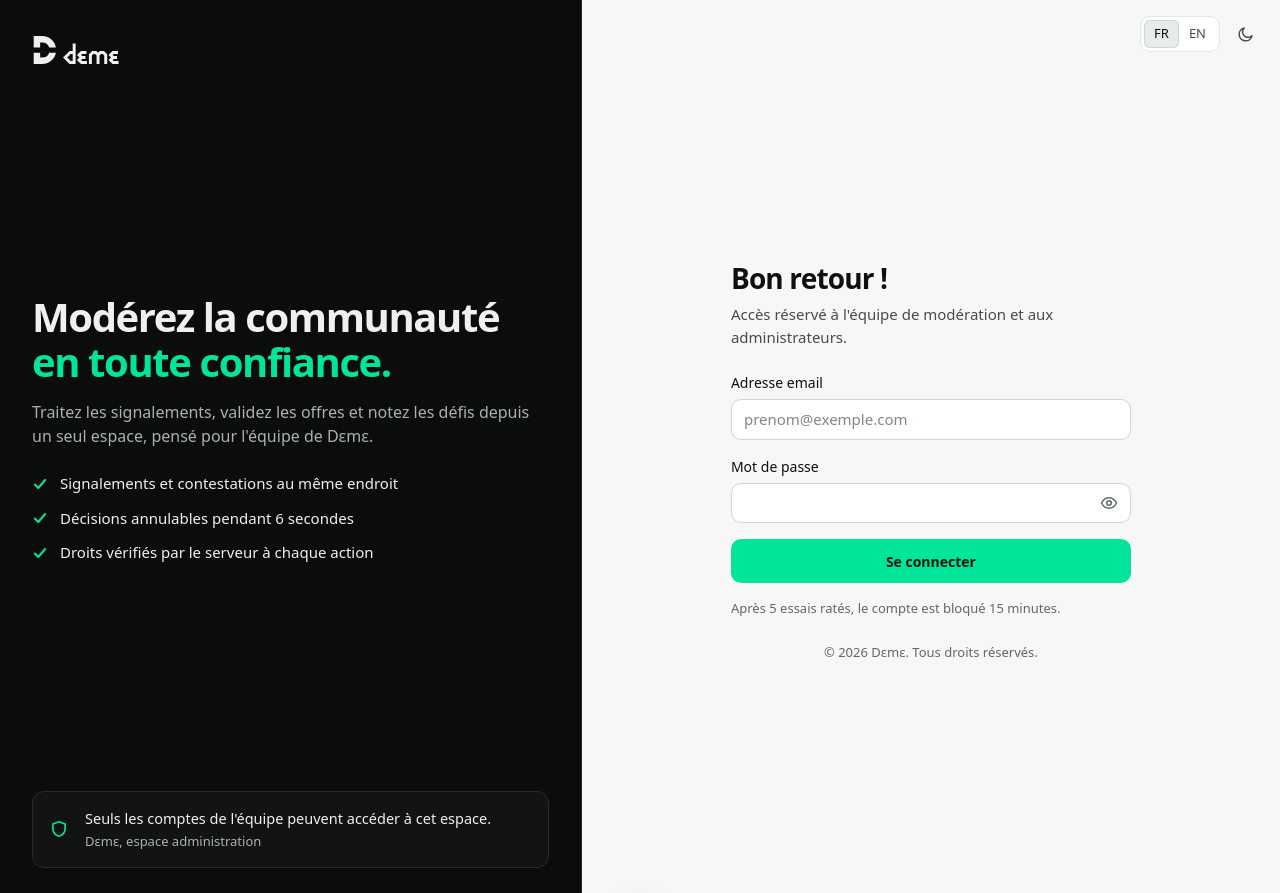
Test case: la connexion ouvre le tableau de bord d'un administrateur
Type "equipe@deme.dev" into the field labelled "Adresse email". click: (931, 420)
box: [731,399,1131,440]
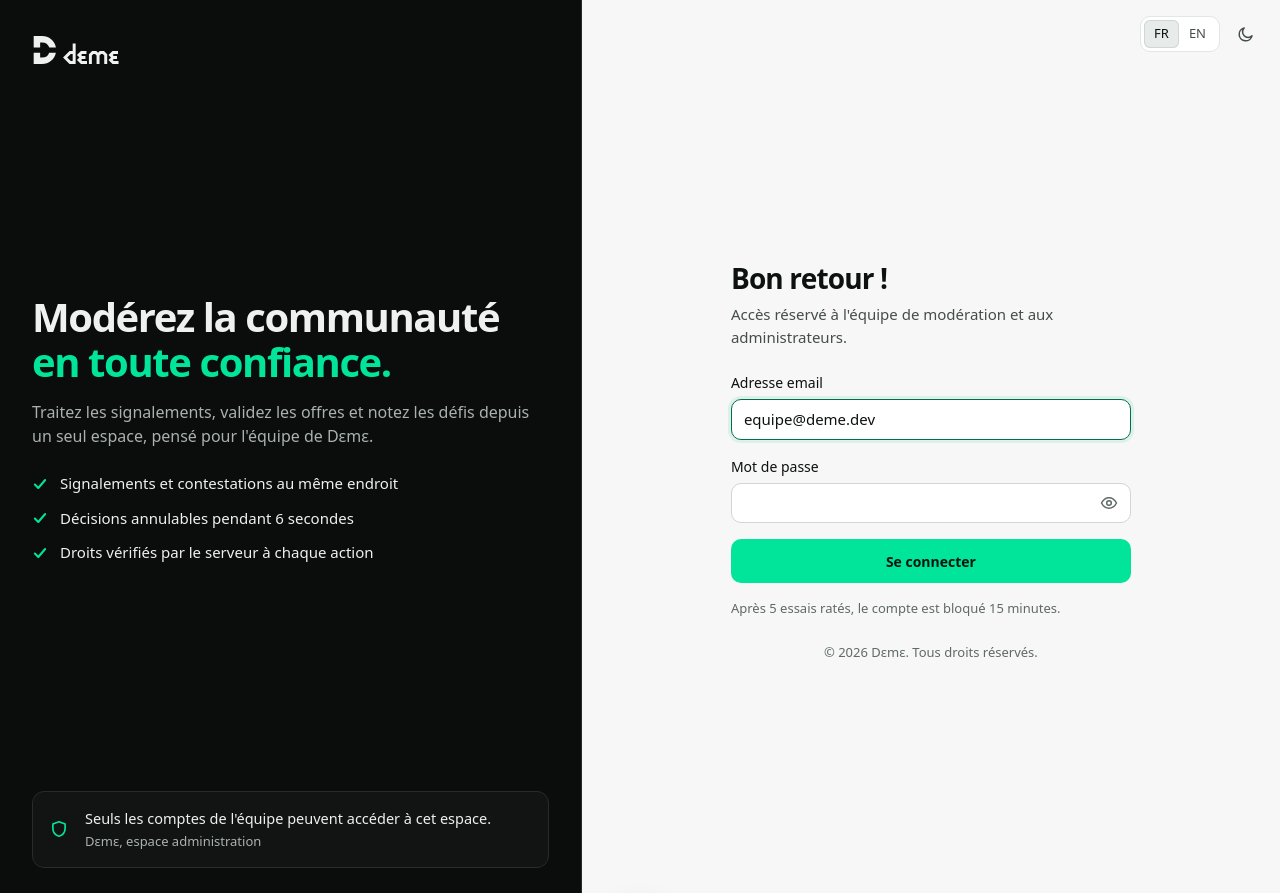
Type "un-mot-de-passe" into the password field labelled "Mot de passe". click: (931, 503)
box: [731,483,1131,523]
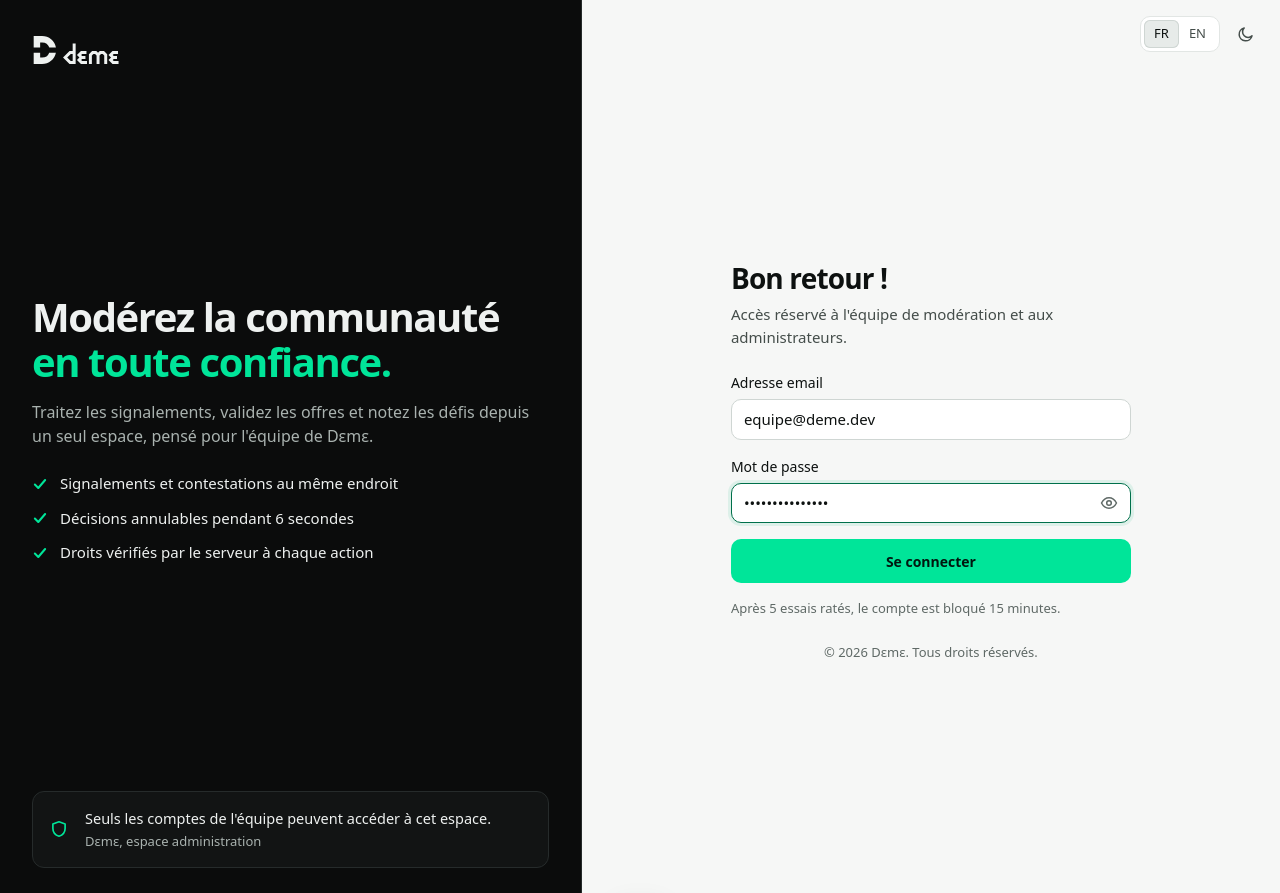
Click the button "Se connecter". click: (931, 561)
box: [731,539,1131,583]
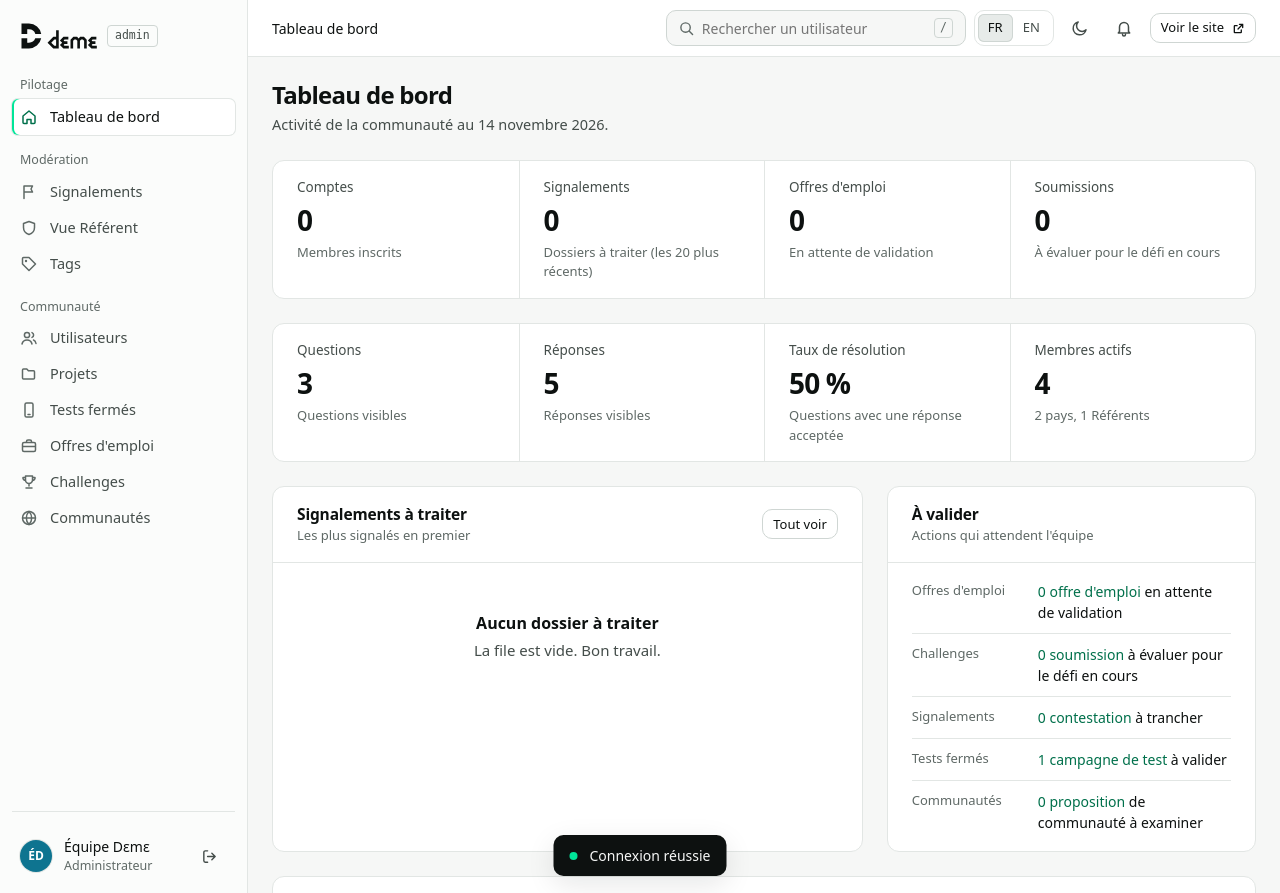
Result: the heading "Tableau de bord" is shown at [272,78,452,111]
Result: the link "Signalements" is shown at [20,181,142,201]
